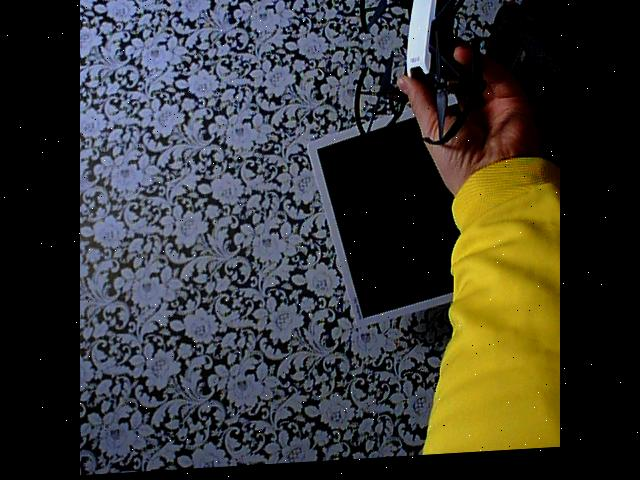drone: (346, 0, 521, 169)
